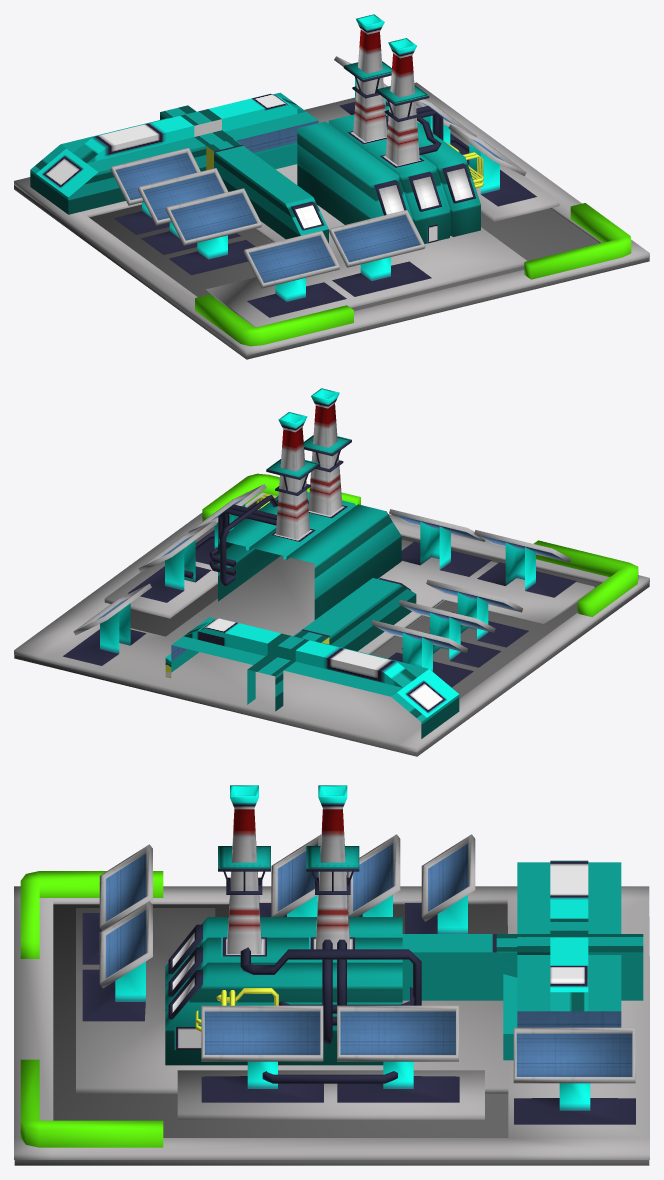
The model's file is energy_LV1.fbx.
3 renders of one model, top to bottom at view 1: azimuth 30°, elevation 25°; view 2: azimuth 150°, elevation 25°; view 3: azimuth 270°, elevation 25°, orthographic. The views are drawn at different scales.
Parts seen in each view (by area): view 1: energy level 1; view 2: energy level 1; view 3: energy level 1.
Boxes of the visible parts, x1,y1,x2,y2 form: energy level 1: (14, 14, 649, 359); energy level 1: (14, 388, 649, 756); energy level 1: (14, 785, 649, 1165).
Bounding box in the file's own units: 160 × 74.08 × 160.
